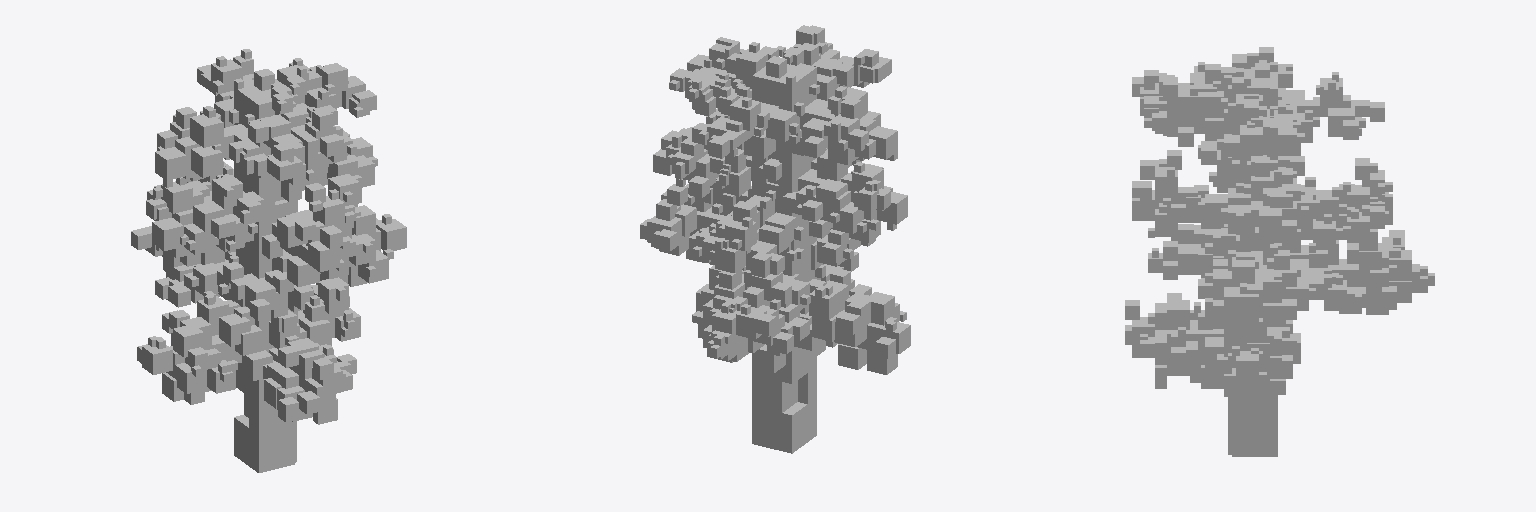
Rendered from tree1.obj.
The picture shows the model from 3 angles: view 1: azimuth 30°, elevation 25°; view 2: azimuth 150°, elevation 25°; view 3: azimuth 270°, elevation 25°; orthographic projection.
Bounding box in the file's own units: 74 × 111 × 81.